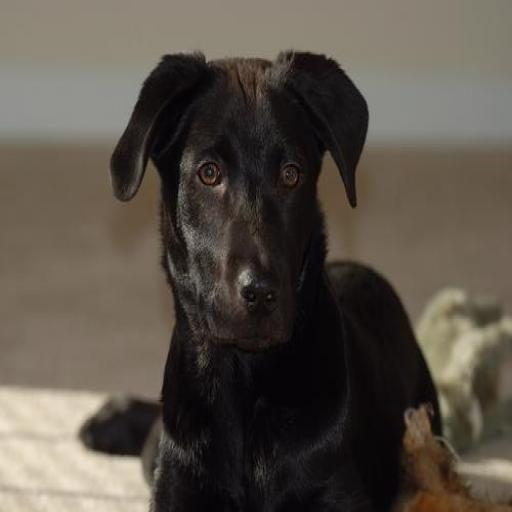dog_face: (122, 35, 355, 339)
